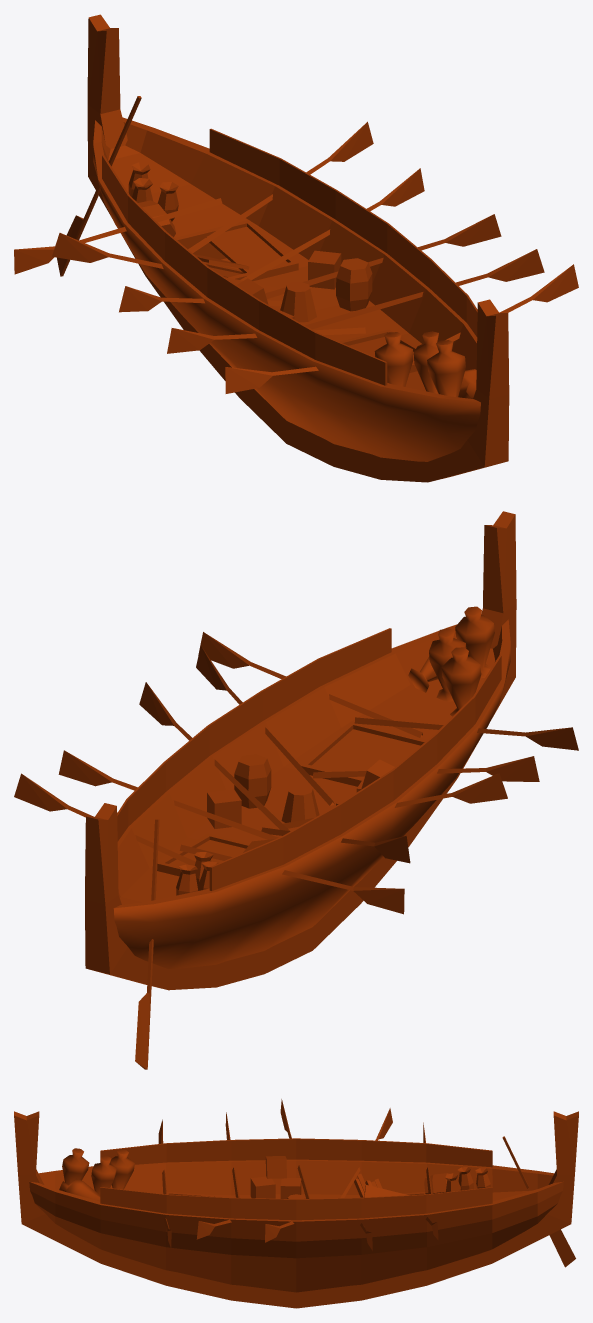
File: pers_merc.dae
3 views of the same model, one above another, from view 1: azimuth 30°, elevation 25°; view 2: azimuth 150°, elevation 25°; view 3: azimuth 270°, elevation 25° (orthographic). The views are drawn at different scales.
Visible parts, largest first — view 1: Cube; view 2: Cube; view 3: Cube.
Part boxes in pixels (x1,y1,x2,y2): Cube: (14, 14, 578, 482); Cube: (14, 511, 578, 1069); Cube: (14, 1099, 578, 1308).
Size of the model in its own units: 13.05 by 24.04 by 8.97.
